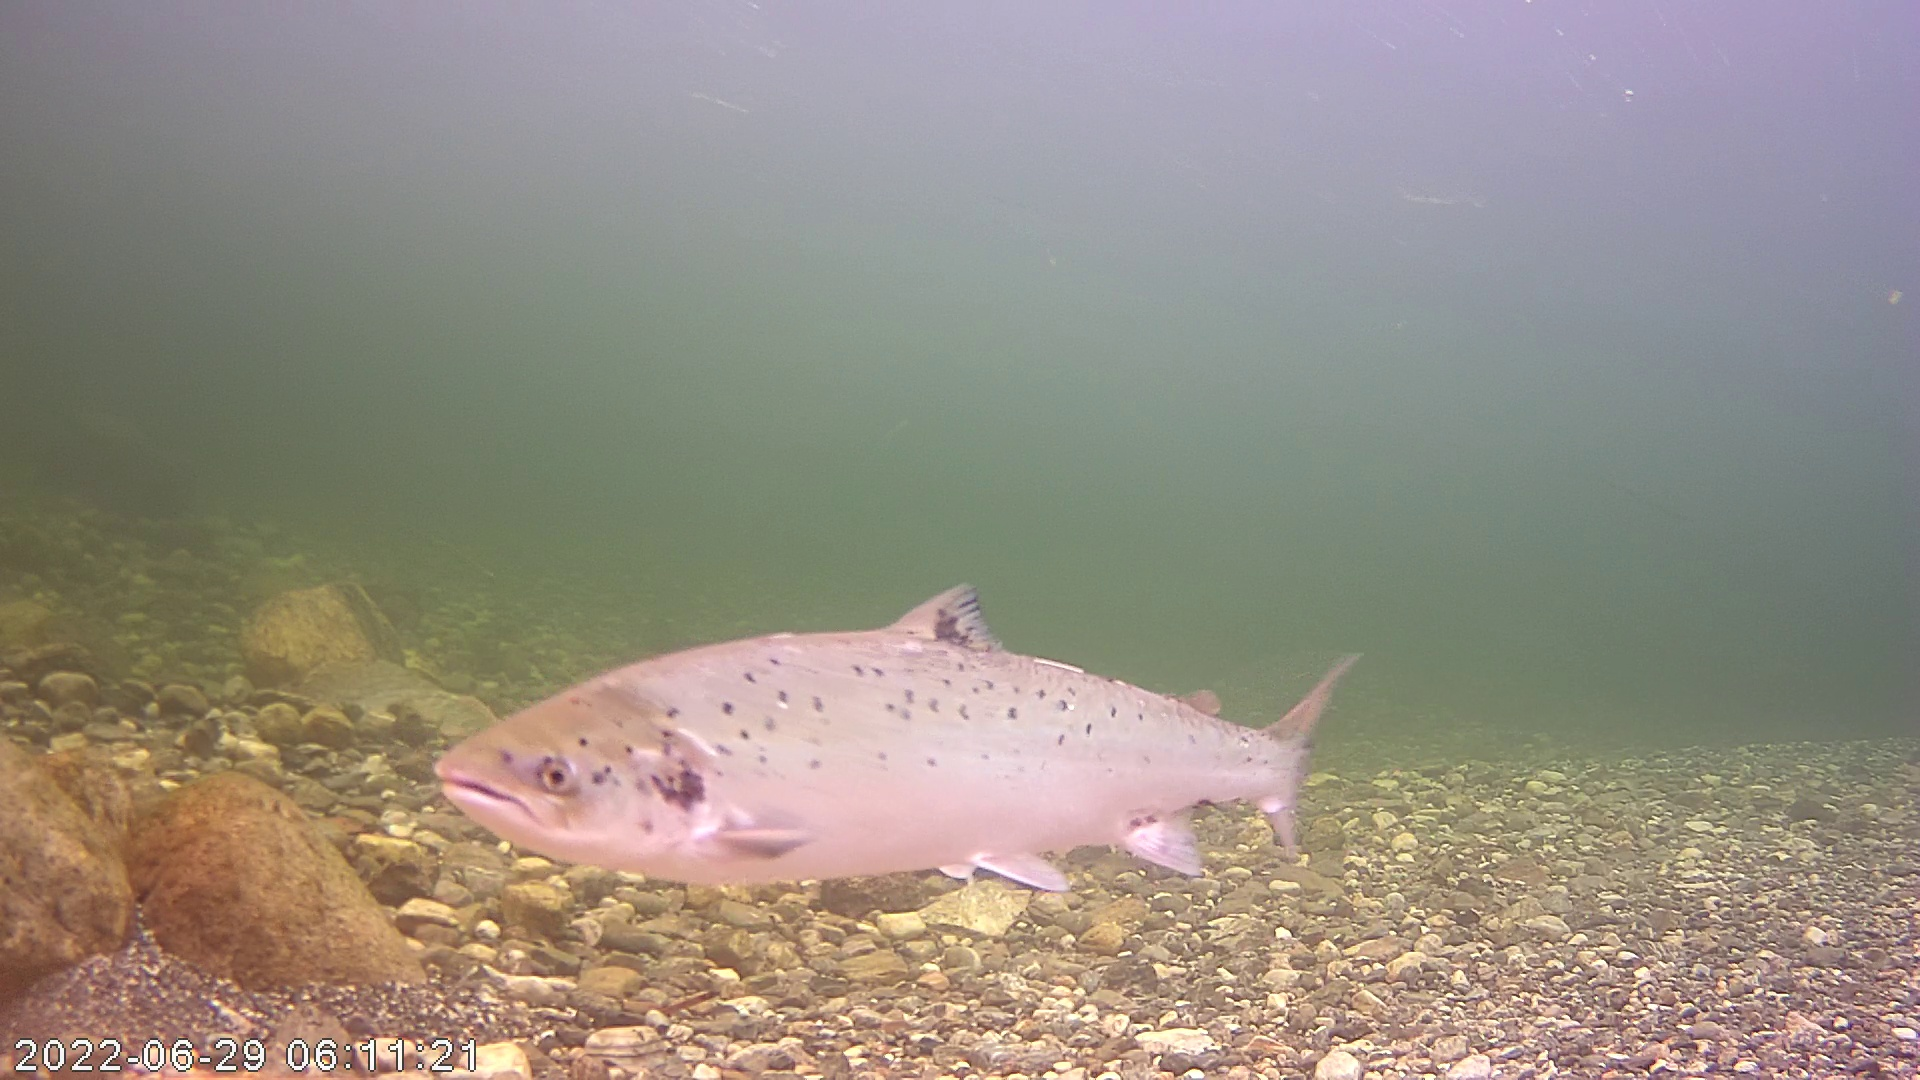salmon: (433, 518, 1348, 909)
